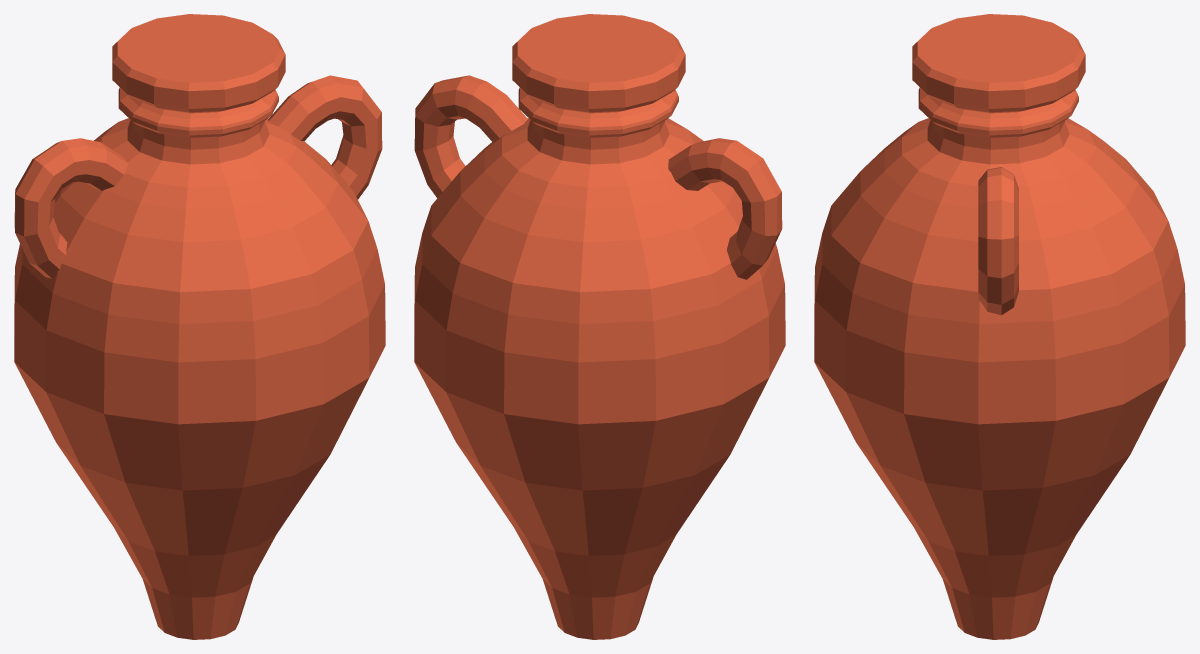
File: Amphora.fbx
3 renders of one model, left to right at view 1: azimuth 30°, elevation 25°; view 2: azimuth 150°, elevation 25°; view 3: azimuth 270°, elevation 25°, orthographic.
Visible parts, largest first — view 1: Cylinder; view 2: Cylinder; view 3: Cylinder.
Part boxes in pixels (x1,y1,x2,y2): Cylinder: (14,14,385,639); Cylinder: (414,14,785,639); Cylinder: (814,14,1185,639).
Bounding box in the file's own units: 132 × 200 × 117.
